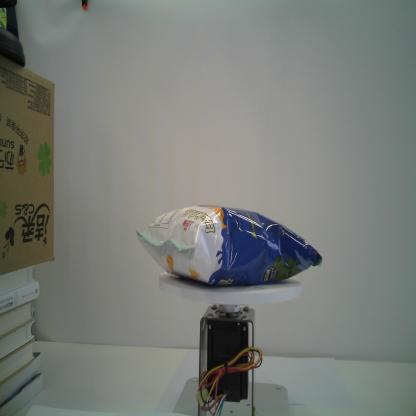Puffed Food: (134, 203, 324, 287)
